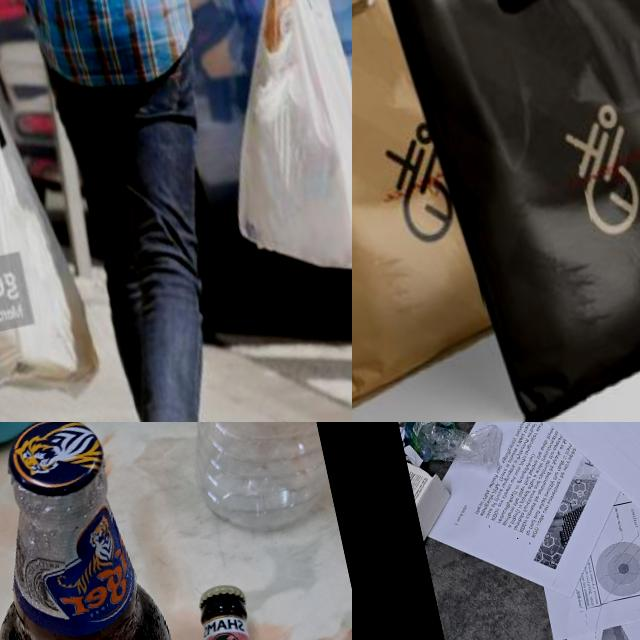garrafa de vidro: (0, 422, 205, 640)
garrafa plástica: (177, 422, 337, 542), (398, 422, 509, 481)
papel: (393, 422, 640, 640)
sacola plástica: (370, 0, 640, 422), (352, 0, 566, 422), (173, 0, 352, 301), (0, 35, 113, 422)
